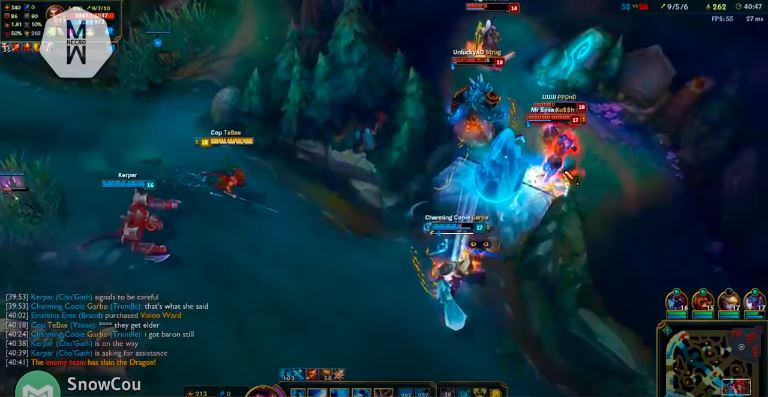bar: (526, 112, 588, 127), (194, 137, 257, 150), (460, 1, 522, 13), (450, 56, 506, 69), (428, 221, 487, 233), (101, 178, 158, 190), (533, 101, 589, 113)
